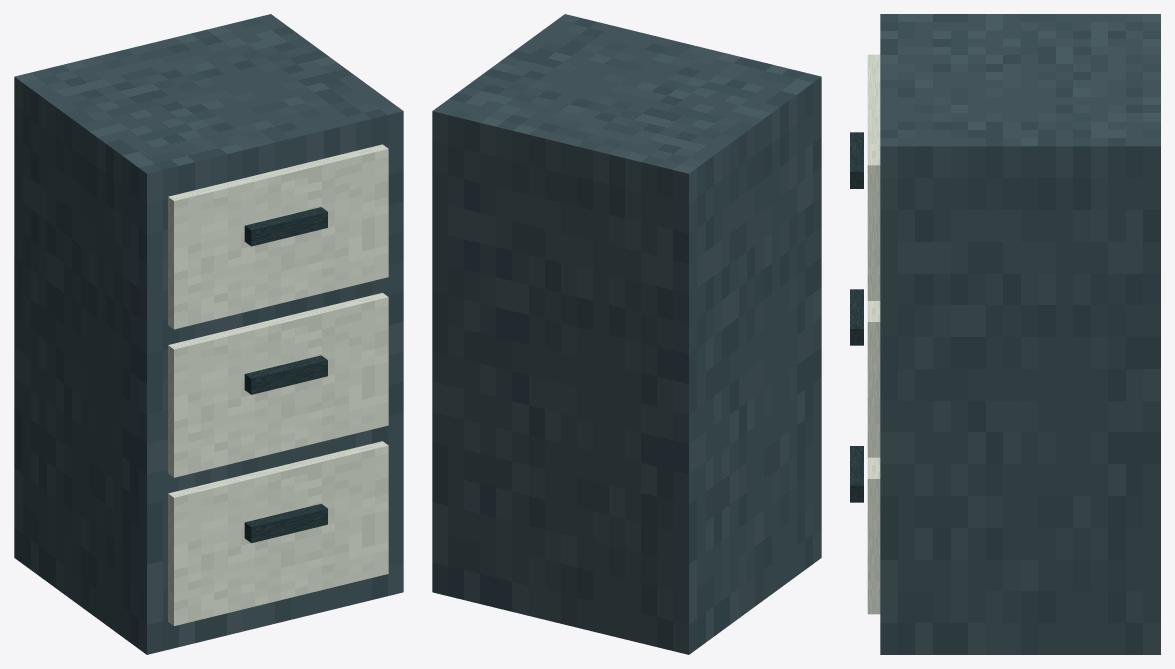
The model's file is filing_cabinet.glb.
The picture shows the model from 3 angles, left to right: view 1: azimuth 30°, elevation 25°; view 2: azimuth 150°, elevation 25°; view 3: azimuth 270°, elevation 25°; orthographic projection. The views are drawn at different scales.
Visible parts, largest first — view 1: block-0, block-3, block-5, block-1, block-4, block-6, block-2; view 2: block-0; view 3: block-0, block-5, block-1, block-3, block-2, block-4, block-6.
Boxes of the visible parts, x1=… form: block-0: x1=14, y1=14, x2=403, y2=654; block-3: x1=168, y1=293, x2=388, y2=477; block-5: x1=168, y1=144, x2=388, y2=329; block-1: x1=168, y1=441, x2=388, y2=625; block-4: x1=244, y1=355, x2=327, y2=394; block-6: x1=244, y1=207, x2=327, y2=246; block-2: x1=244, y1=503, x2=327, y2=543; block-0: x1=432, y1=14, x2=821, y2=654; block-0: x1=880, y1=14, x2=1160, y2=654; block-5: x1=867, y1=54, x2=880, y2=300; block-1: x1=867, y1=457, x2=880, y2=614; block-3: x1=867, y1=301, x2=880, y2=457; block-2: x1=850, y1=446, x2=863, y2=502; block-4: x1=850, y1=289, x2=863, y2=345; block-6: x1=850, y1=132, x2=863, y2=188.
Size of the model in its own units: 0.67 by 1.2 by 0.665.
3 materials, 3 textured.
